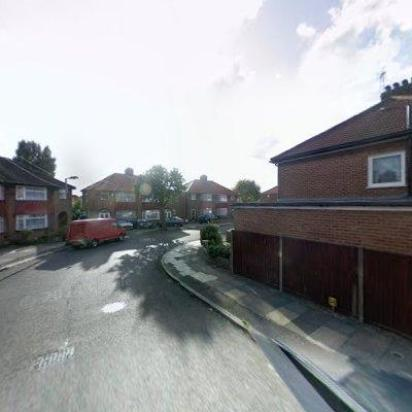moving-light-truck: (64, 216, 128, 248)
stationary-car-offstreet: (156, 214, 184, 228), (196, 212, 218, 224), (132, 217, 152, 229), (114, 218, 132, 230)
